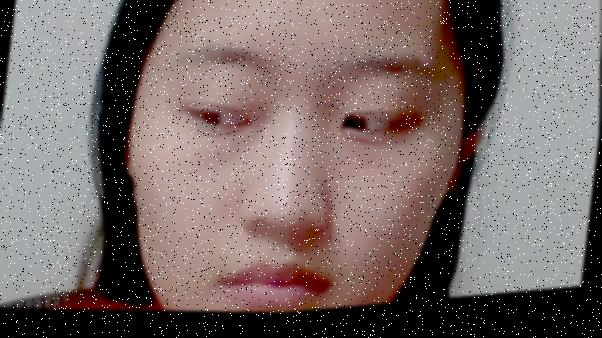eye: (339, 118, 369, 148), (185, 110, 222, 133)
iris: (187, 108, 251, 136), (342, 117, 397, 144)
